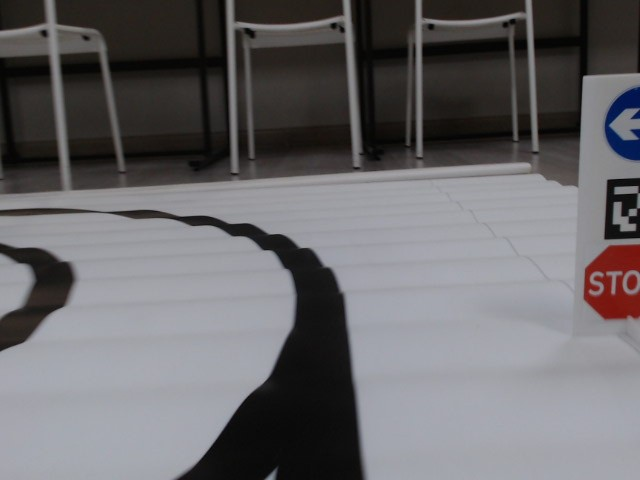Stop: (582, 243, 640, 317)
